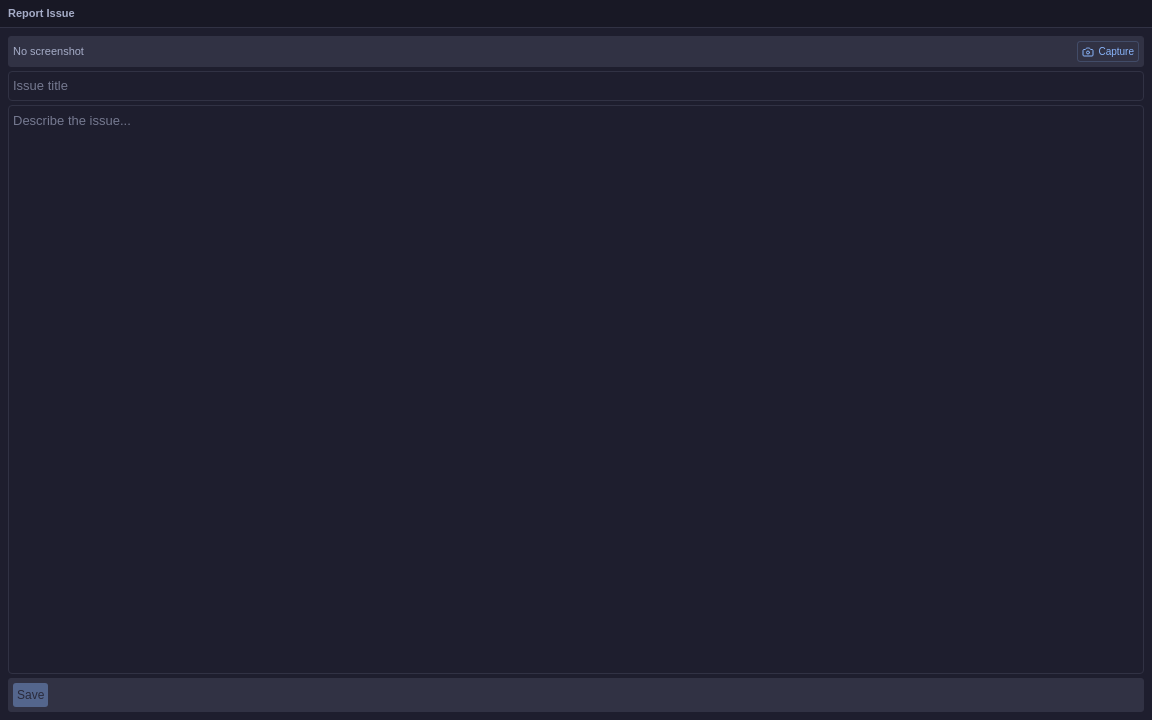
Scenario: IssueReporterView › resets form when 'New Issue' is clicked
The image size is (1152, 720).
In the field with test id "issue-title": (576, 86) [8,71,1144,100], type "Test issue"
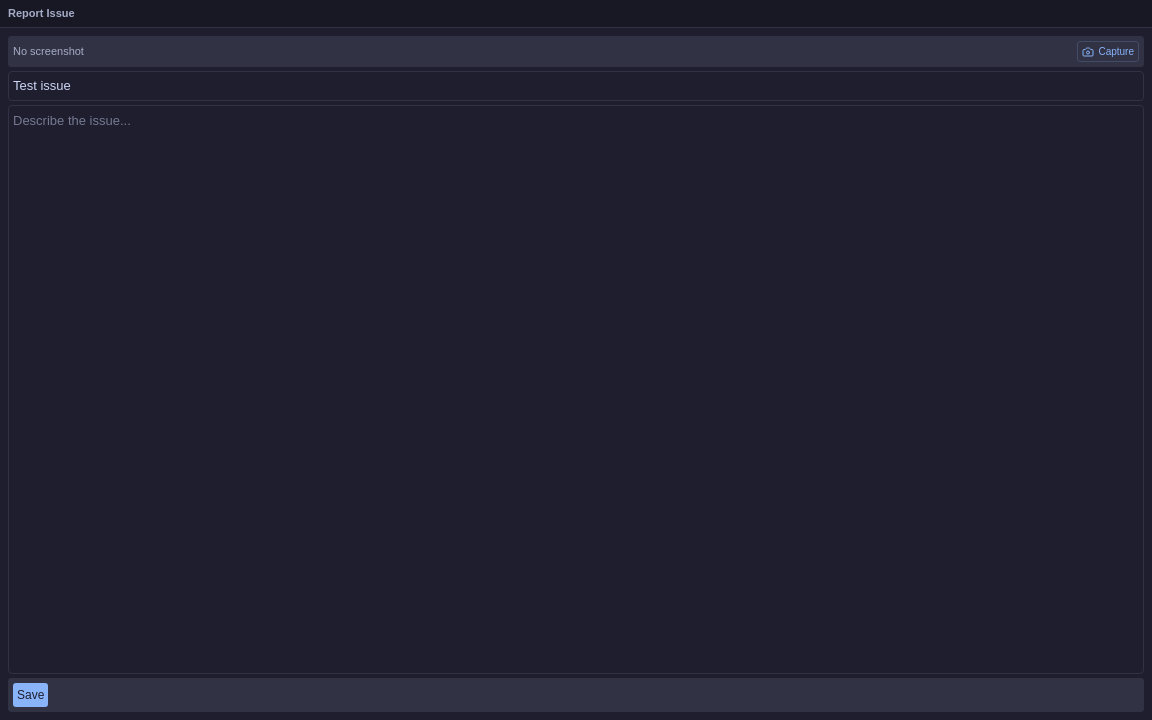
In the text box with test id "issue-body": (576, 389) [8,104,1144,674], type "Some body"
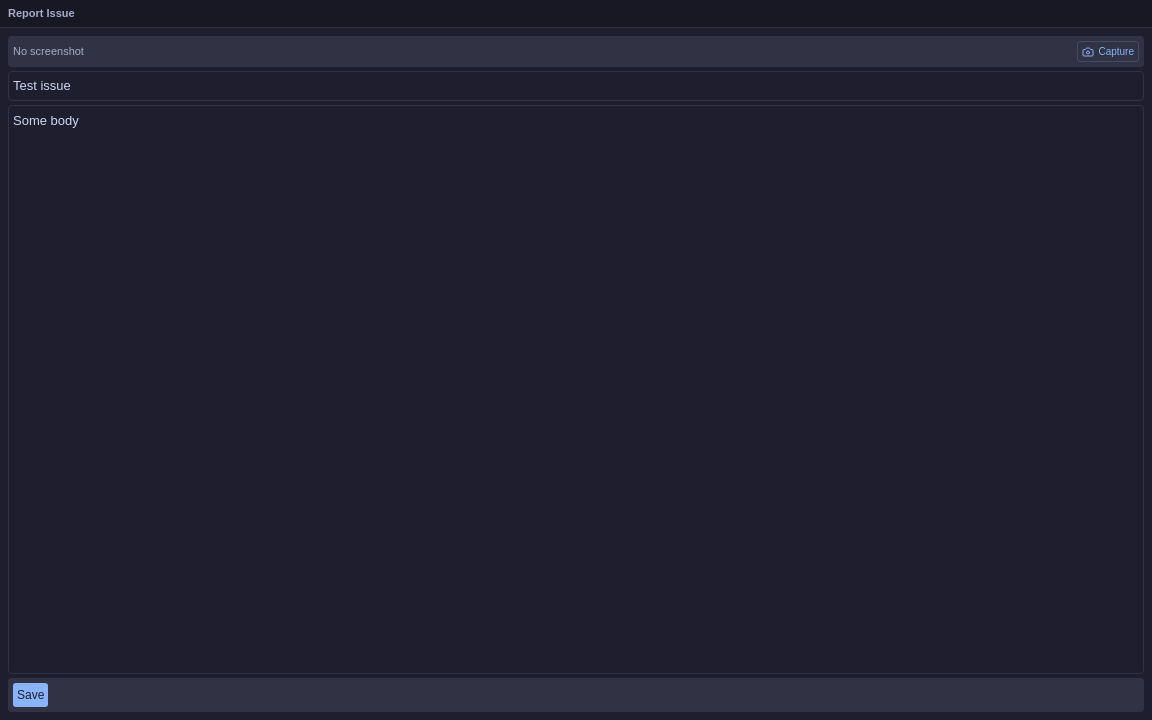
Click the button with test id "issue-submit": click(31, 695) [13,683,48,707]
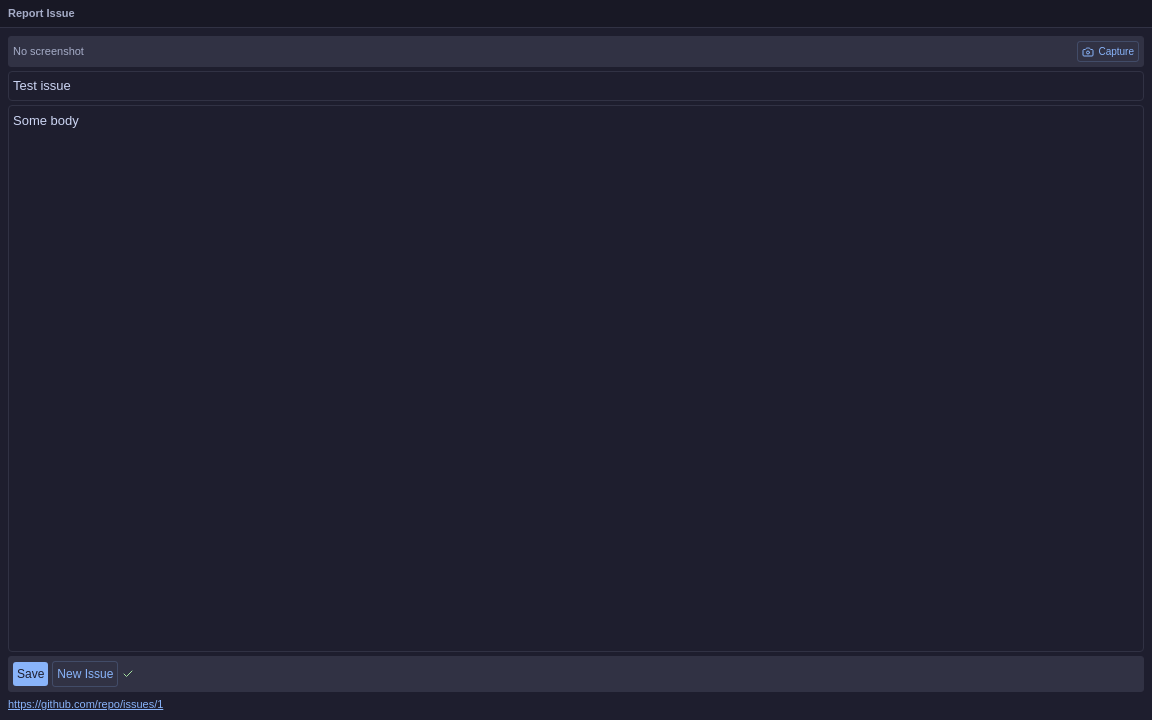
Result: the button with test id "issue-new-report" is shown
Click the button with test id "issue-new-report": click(85, 674) [52,660,118,686]
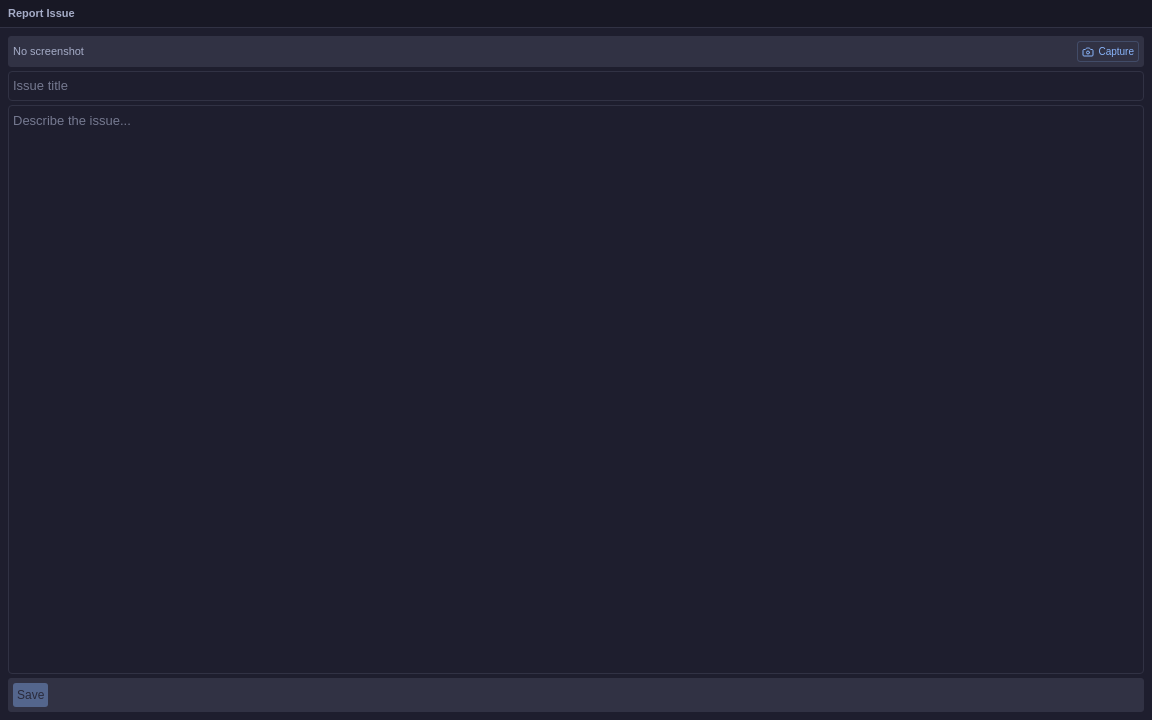
Result: the field with test id "issue-title" is empty at [8,71,1144,100]
Result: the text box with test id "issue-body" is empty
Result: the button with test id "issue-new-report" is gone
